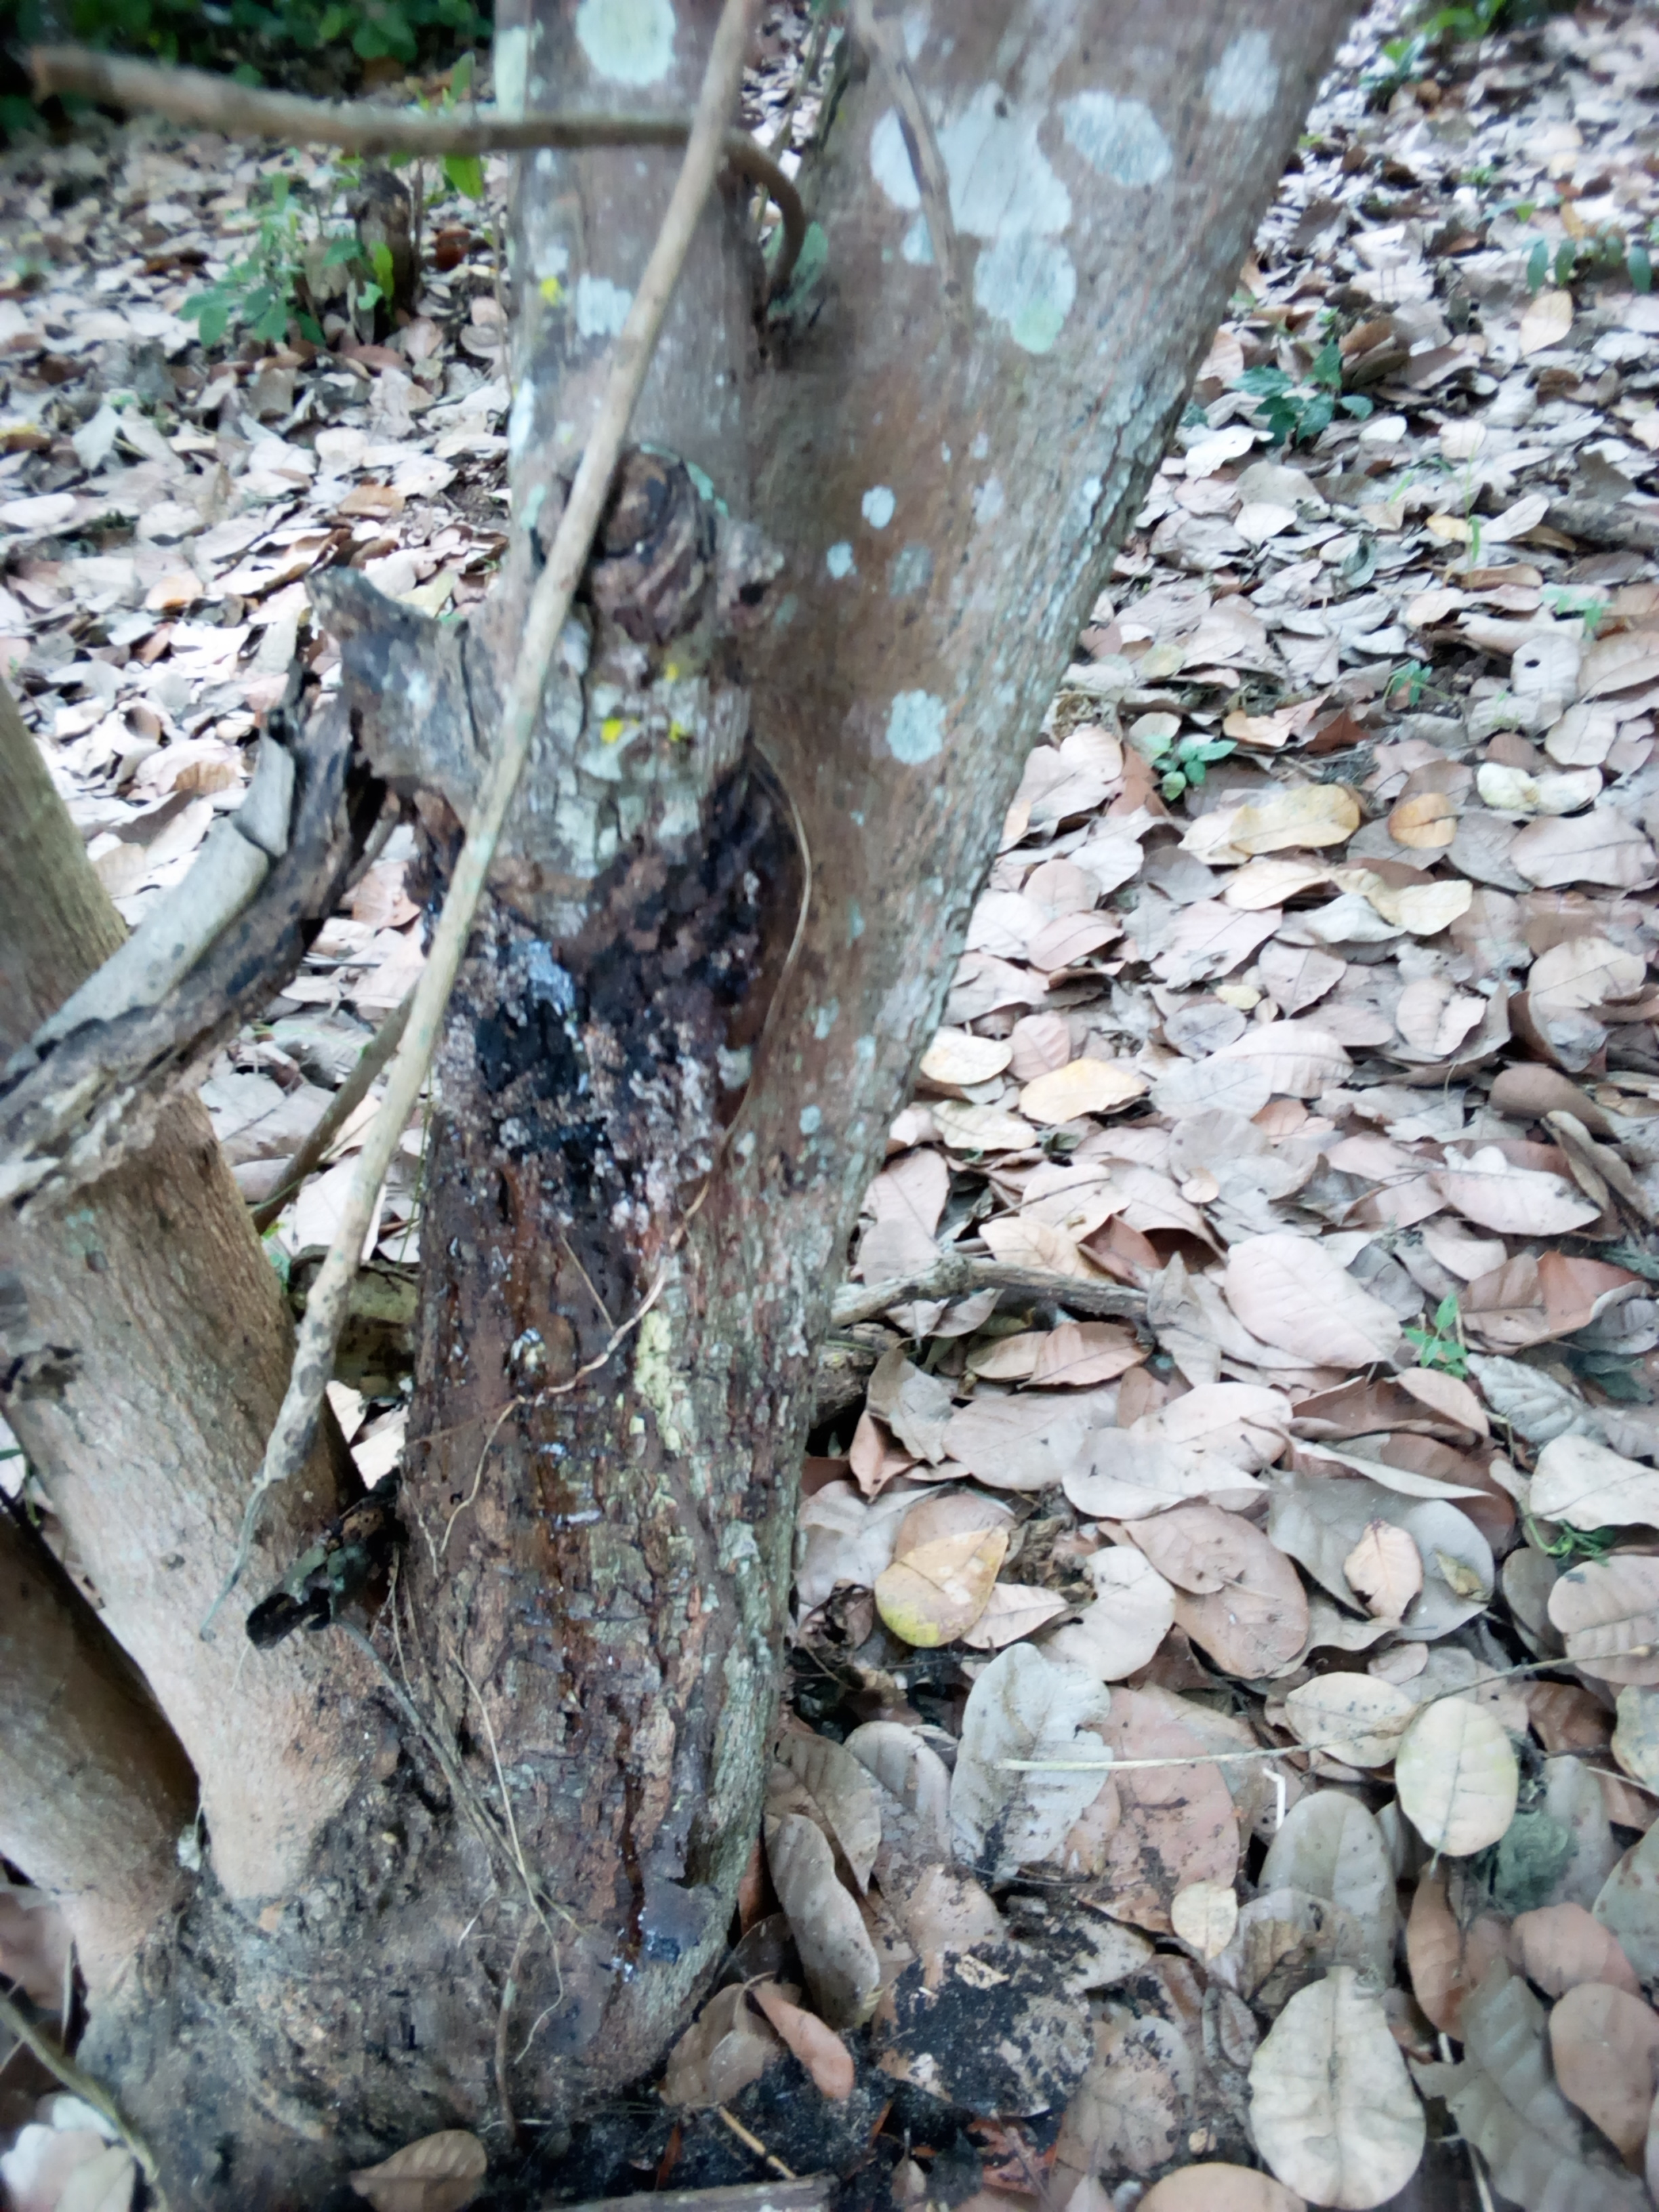Gommose: (474, 815, 792, 1536)
